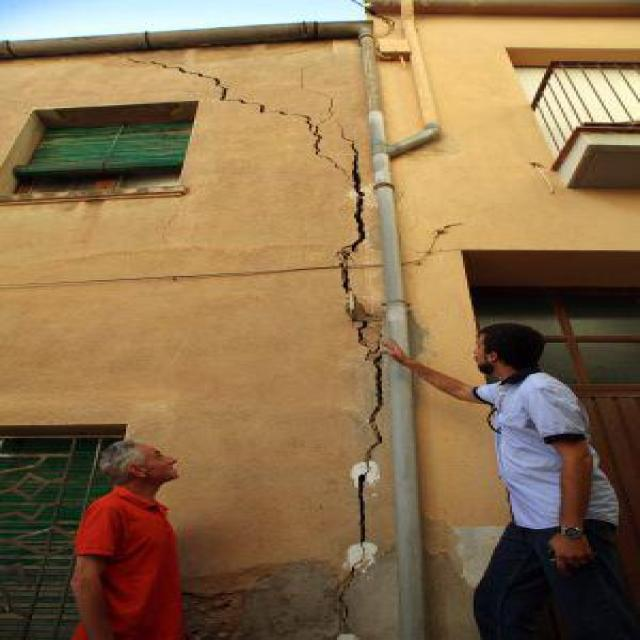crack: (117, 55, 344, 173), (335, 141, 388, 545)
